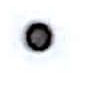cancer: (10, 10, 74, 68)
